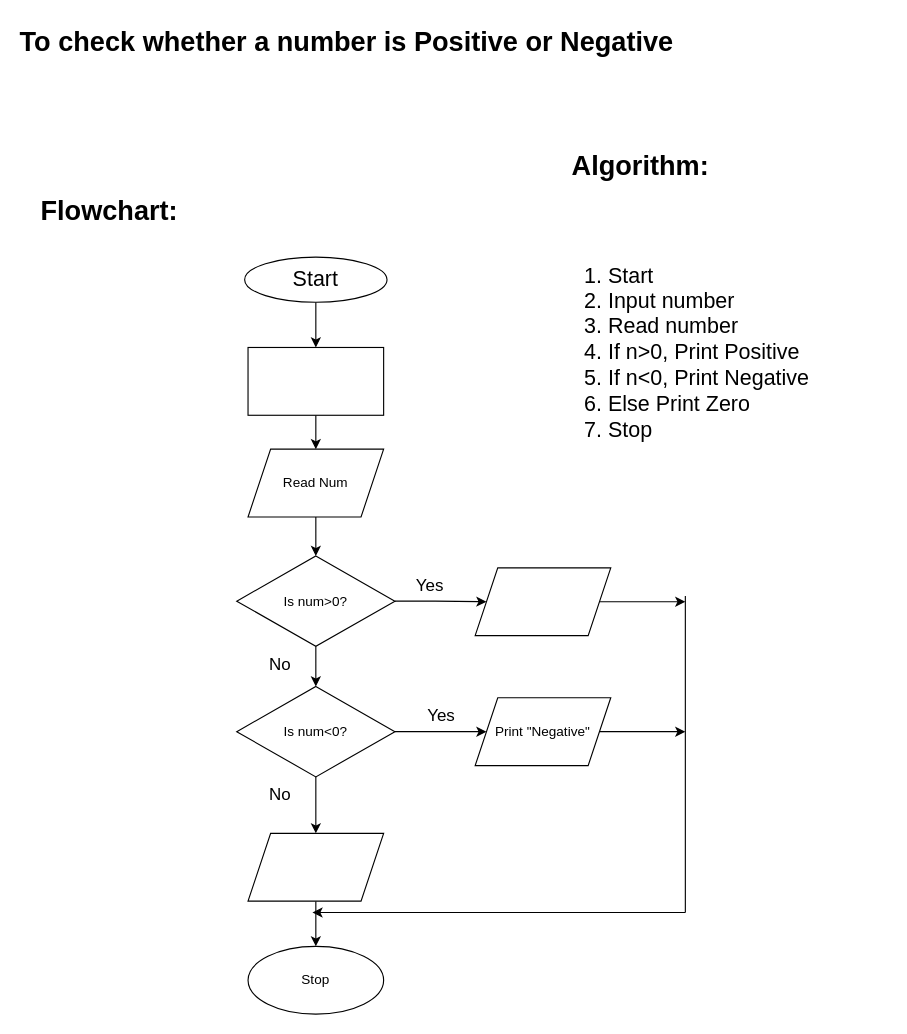
This 907x1034 diagram has some shape labels left out. Each missing label, with the box of its shape:
Intput num: (247, 346, 384, 415)
Print "Positive": (474, 567, 611, 636)
Print "Zero": (247, 832, 384, 901)
